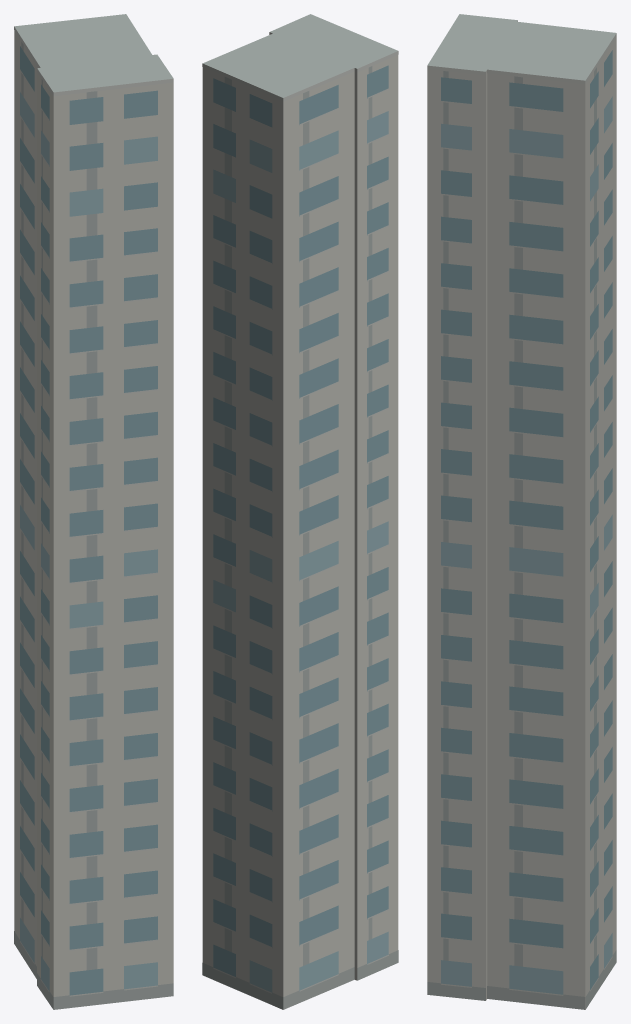
File: survey-upis-32460979.glb
3 renders of one model, left to right at view 1: azimuth 30°, elevation 25°; view 2: azimuth 150°, elevation 25°; view 3: azimuth 270°, elevation 25°, orthographic.
Parts seen in each view (by area): view 1: survey-upis-32460979.tmp; view 2: survey-upis-32460979.tmp; view 3: survey-upis-32460979.tmp.
Boxes of the visible parts, <box> form: survey-upis-32460979.tmp: <box>14,14,173,1009</box>; survey-upis-32460979.tmp: <box>202,14,398,1009</box>; survey-upis-32460979.tmp: <box>427,14,616,1009</box>.
Bounding box in the file's own units: 9.4 × 61 × 11.28.
